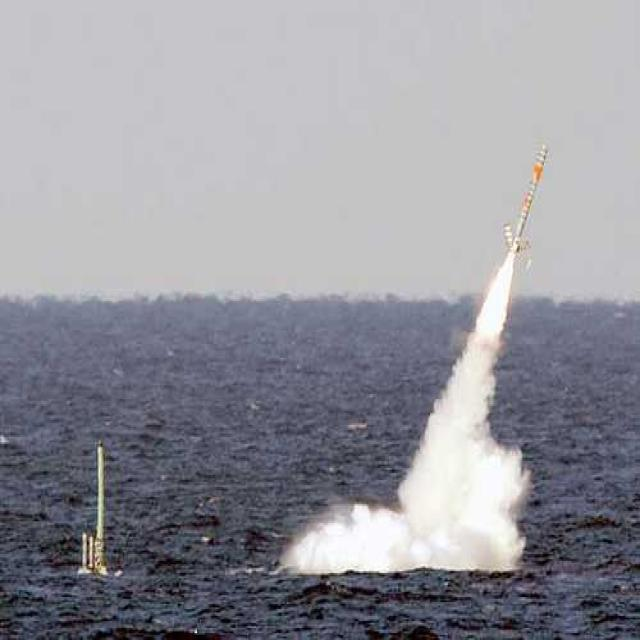missile: (500, 144, 550, 259)
